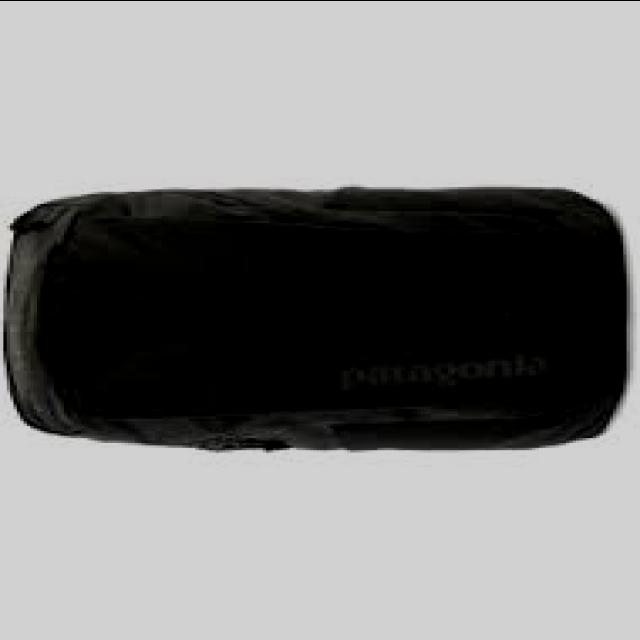backpack: (1, 187, 624, 455)
